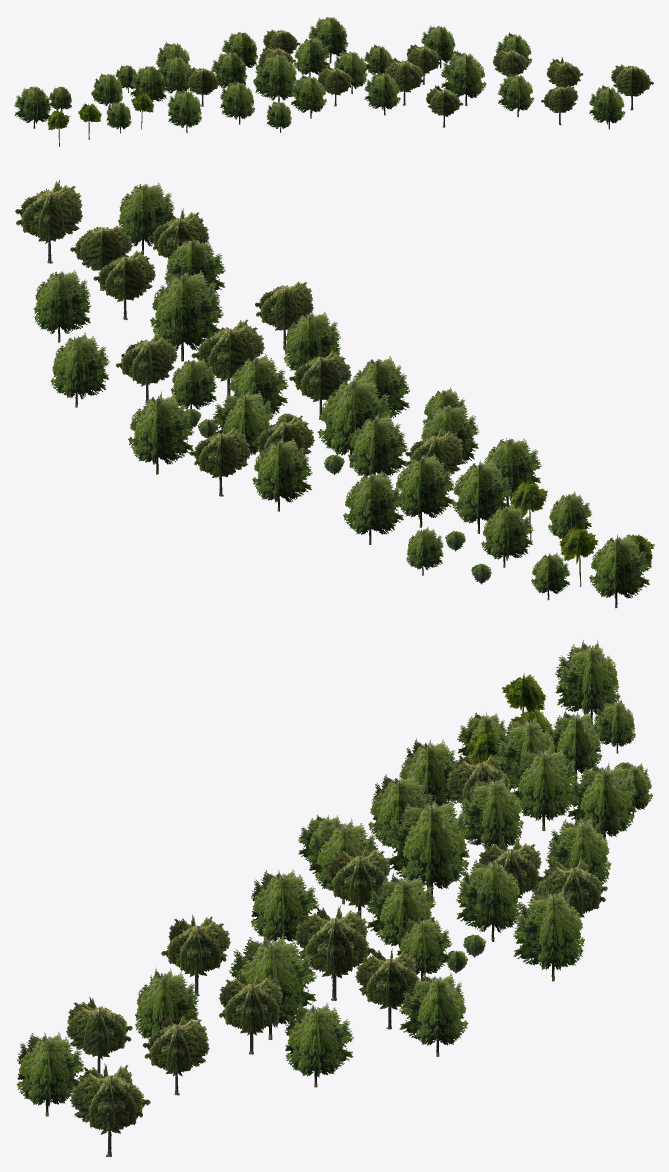
Rendered from ParkTreesChunk6.fbx.
3 renders of one model, top to bottom at view 1: azimuth 30°, elevation 25°; view 2: azimuth 150°, elevation 25°; view 3: azimuth 270°, elevation 25°, orthographic. The views are drawn at different scales.
Parts seen in each view (by area): view 1: TreesPack.004; view 2: TreesPack.004; view 3: TreesPack.004.
Boxes of the visible parts, <box> form: TreesPack.004: <box>14,17,653,146</box>; TreesPack.004: <box>15,180,654,608</box>; TreesPack.004: <box>16,639,653,1156</box>.
Size of the model in its own units: 18537 by 2326 by 10864.
